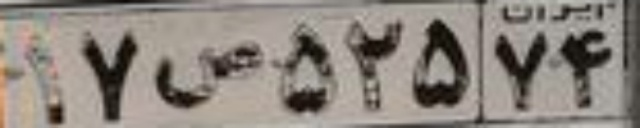1: (15, 34, 68, 124)
2: (345, 17, 403, 110)
4: (560, 28, 613, 108)
5: (275, 16, 341, 114), (410, 16, 472, 108)
7: (79, 32, 146, 120), (490, 31, 552, 109)
saat: (153, 40, 263, 109)
